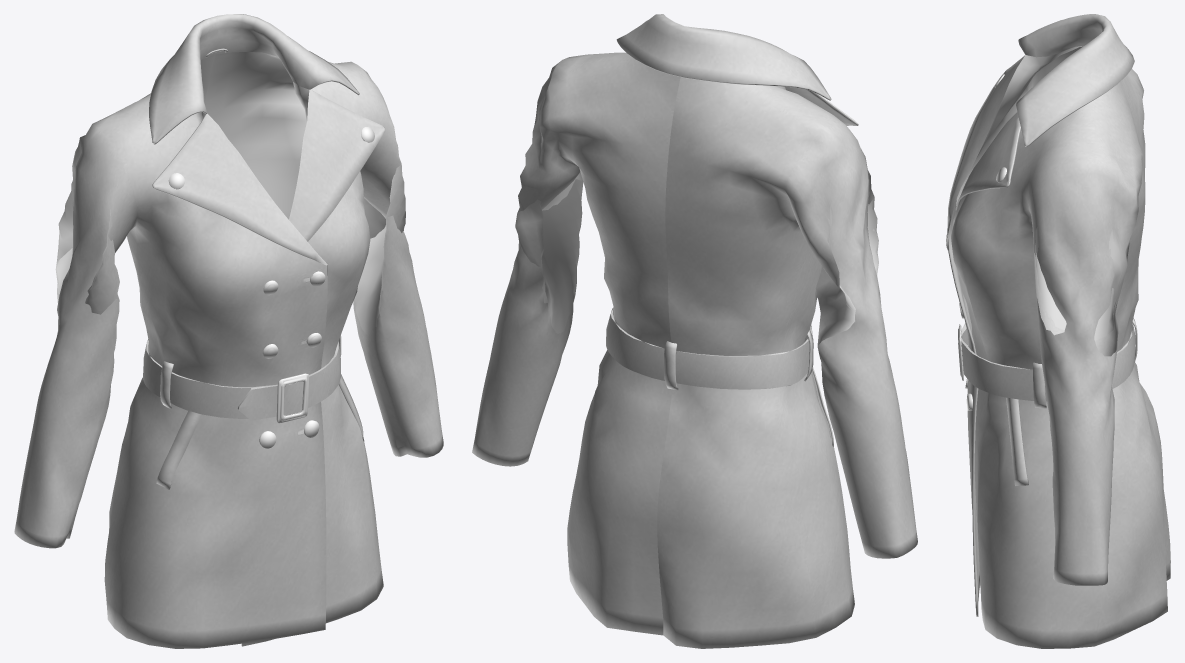
The model's file is coat-02.glb.
The picture shows the model from 3 angles, left to right: view 1: azimuth 30°, elevation 25°; view 2: azimuth 150°, elevation 25°; view 3: azimuth 270°, elevation 25°; orthographic projection. The views are drawn at different scales.
Parts seen in each view (by area): view 1: coat-02; view 2: coat-02; view 3: coat-02.
Boxes of the visible parts, left/top/right/bottom form: coat-02: left=14, top=14, right=443, bottom=648; coat-02: left=472, top=14, right=917, bottom=648; coat-02: left=946, top=14, right=1170, bottom=648.
Size of the model in its own units: 2.3 by 3.03 by 1.08.
1 material, 1 textured.
